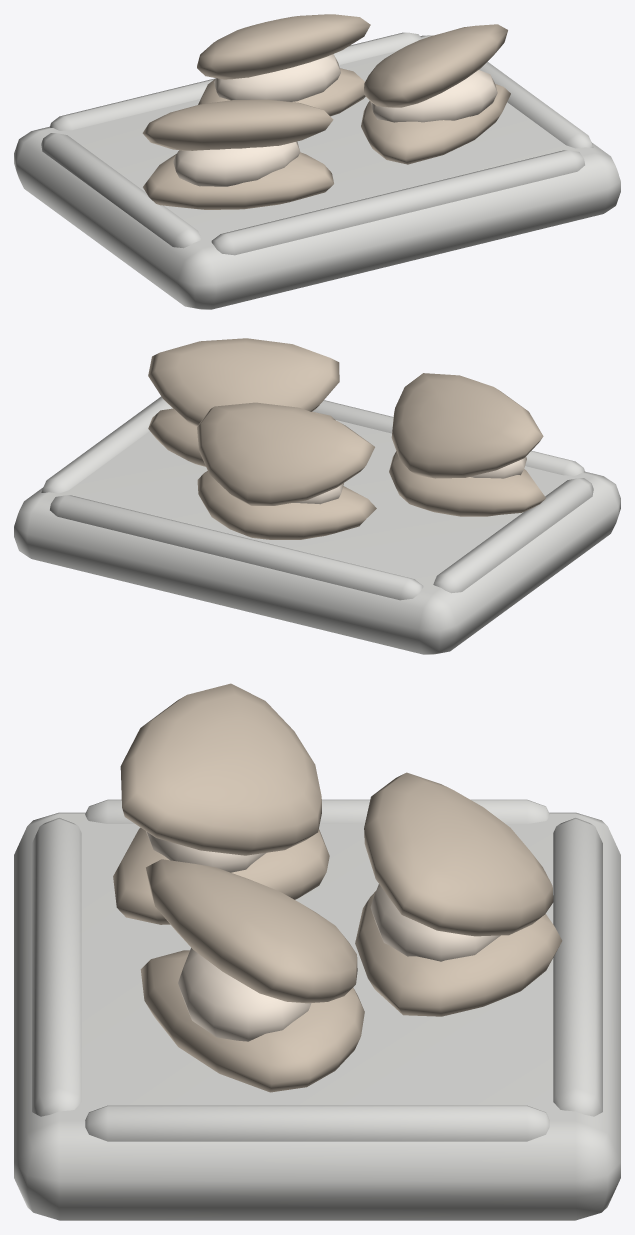
The model's file is shellfish.glb.
The picture shows the model from 3 angles, top to bottom: view 1: azimuth 30°, elevation 25°; view 2: azimuth 150°, elevation 25°; view 3: azimuth 270°, elevation 25°; orthographic projection. The views are drawn at different scales.
Parts seen in each view (by area): view 1: shellfish; view 2: shellfish; view 3: shellfish.
Part boxes in pixels (x1,y1,x2,y2): shellfish: [14, 14, 620, 309]; shellfish: [14, 338, 620, 654]; shellfish: [14, 683, 620, 1220].
Size of the model in its own units: 0.74 by 0.2506 by 0.55.
